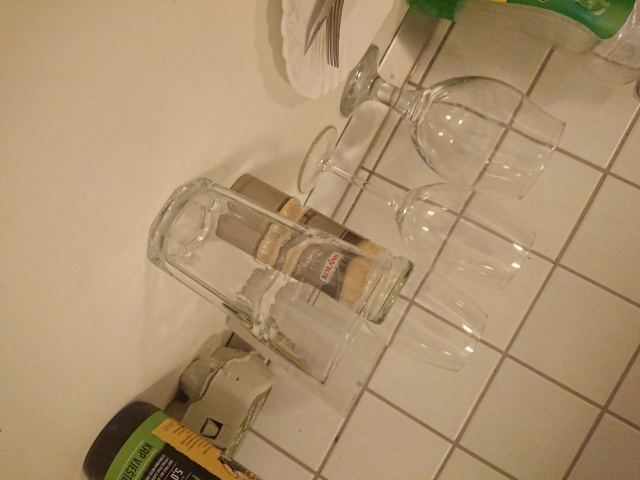Kotanyi Garlic Granules 70g: (212, 171, 417, 328)
